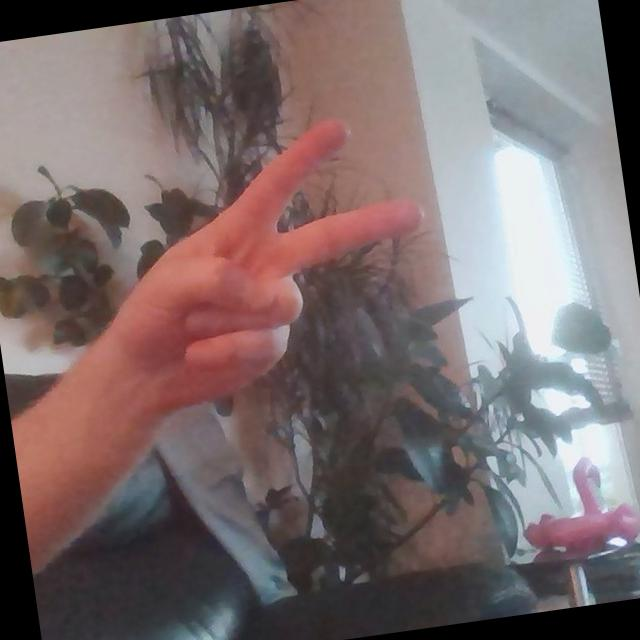scissors: (89, 101, 457, 432)
